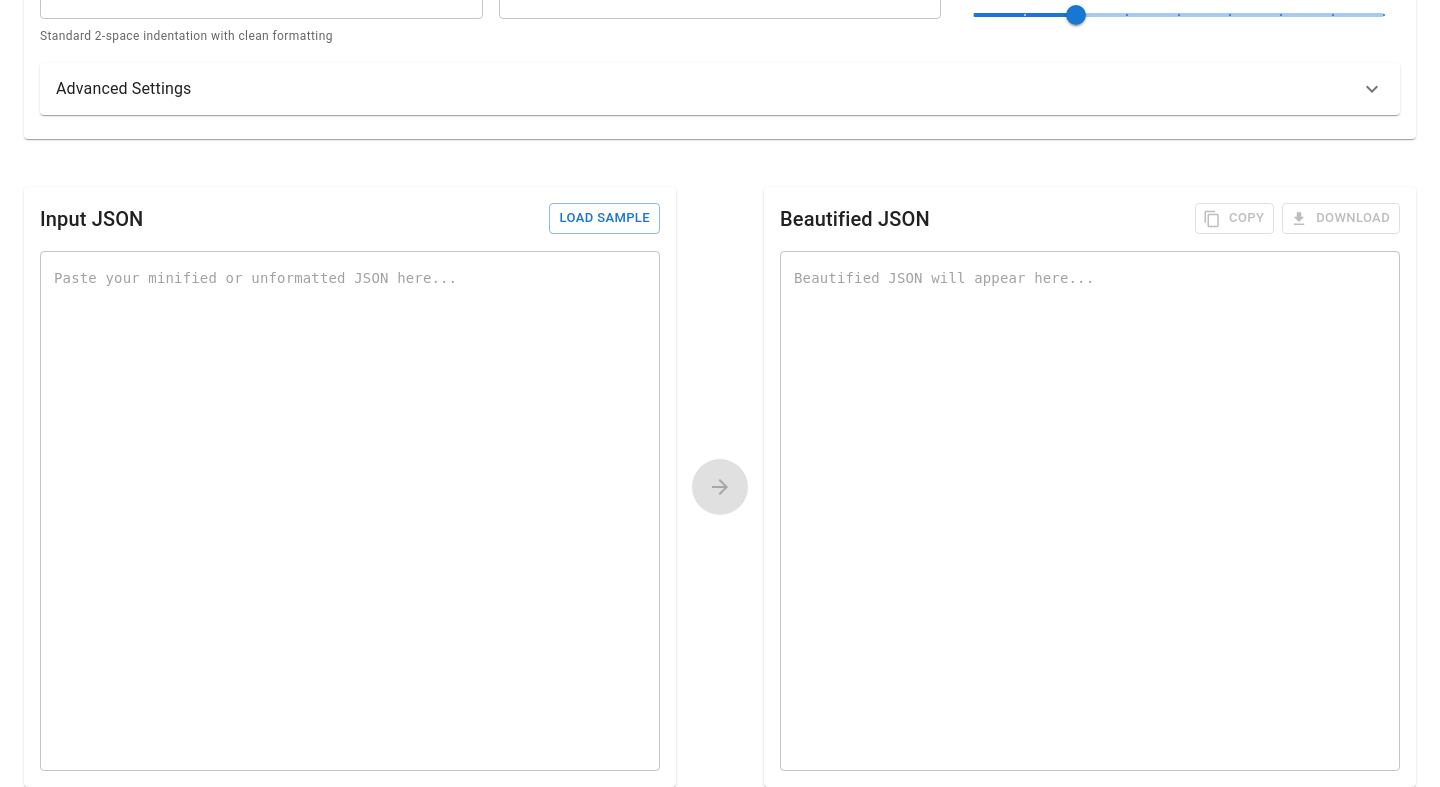
Test: JsonBeautifierTool › should beautify JSON when beautify button is clicked
(page scrolled)
Expected: the 5th button is shown, [692,459,748,515]
Note: Enter minified JSON
Clear the text box with placeholder "Paste your minified or unformatted JSON here...". click: (350, 511)
box: [54,267,646,754]
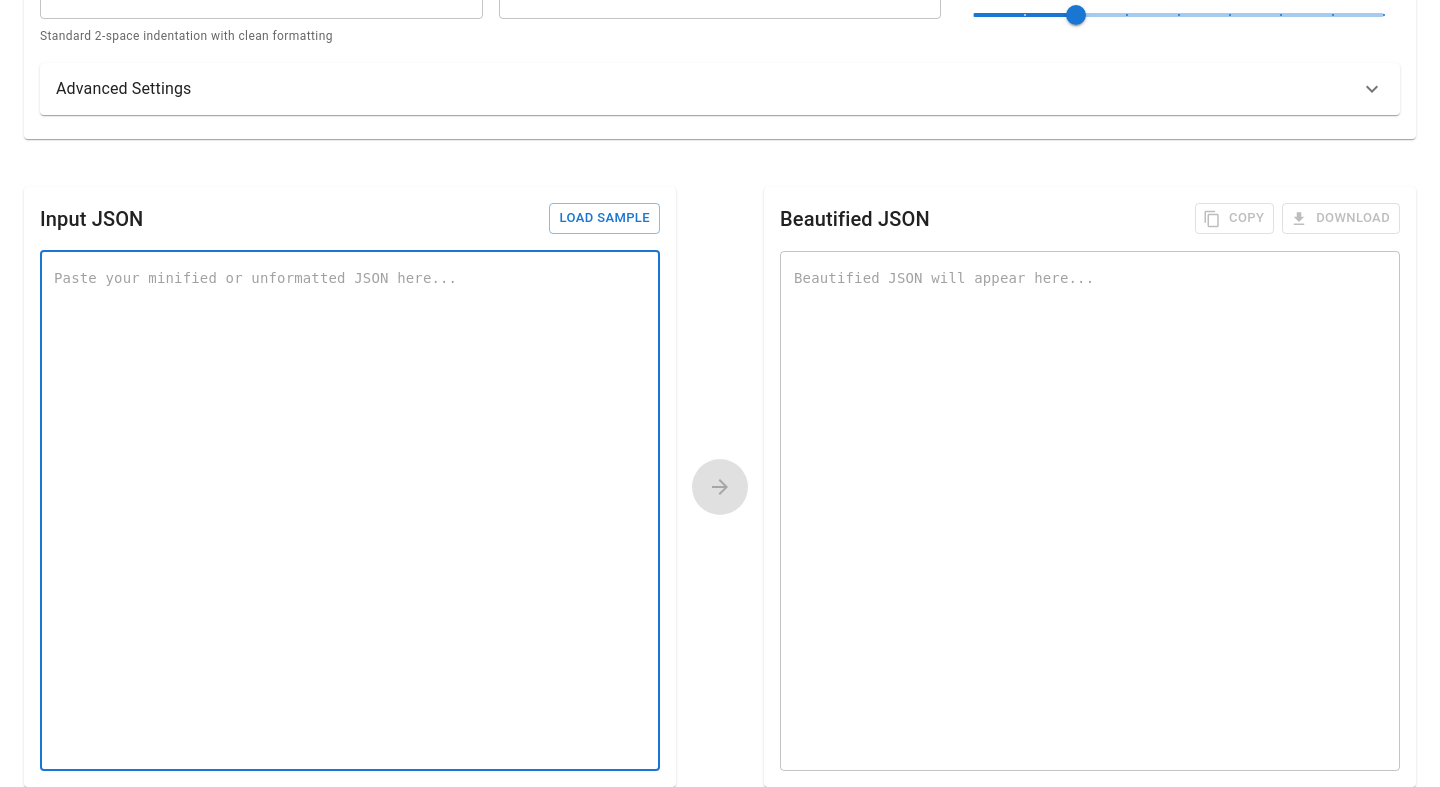
Type keys "{\"name\":\"test\",\"value\":123}"
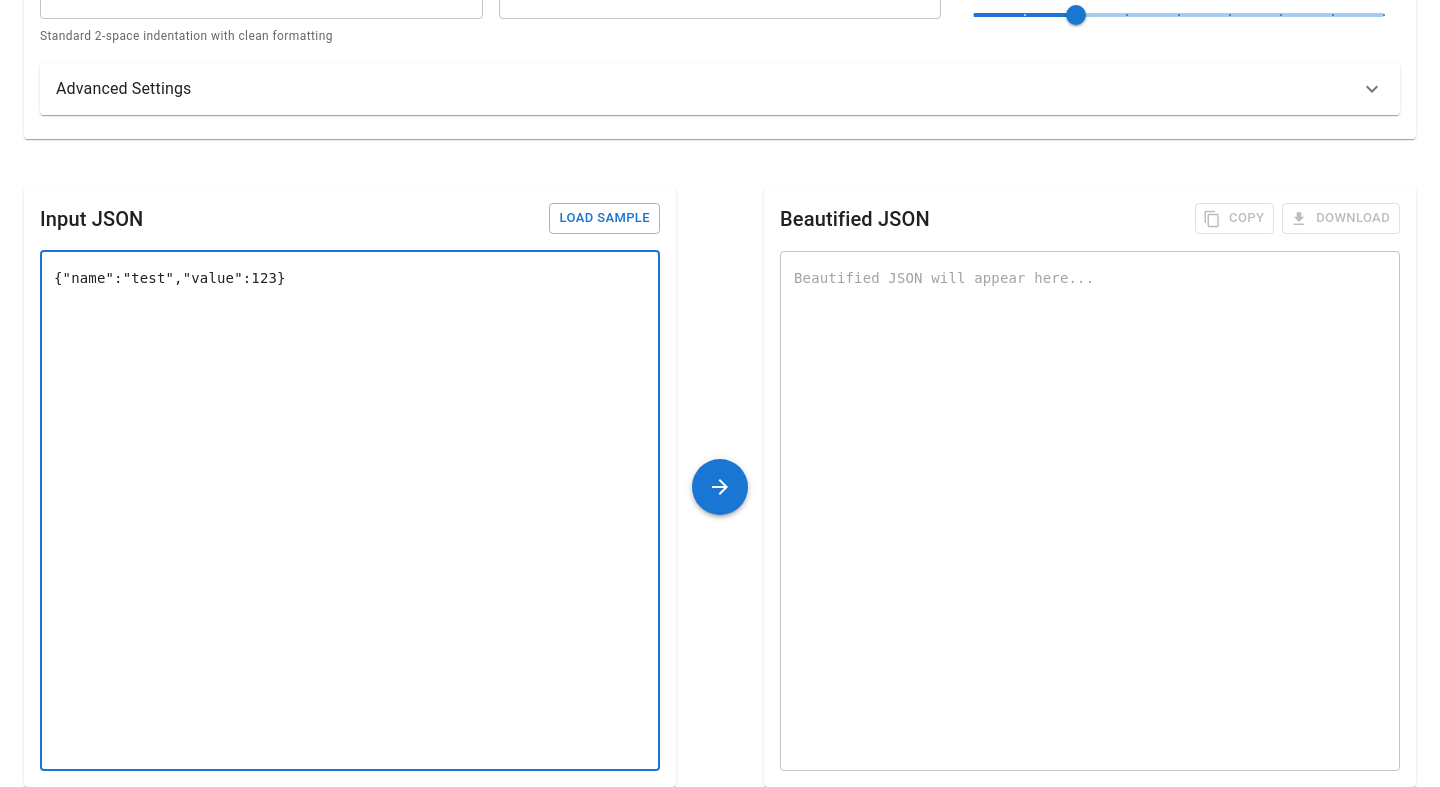
Click the 5th button. click: (720, 487)
box: [692,459,748,515]
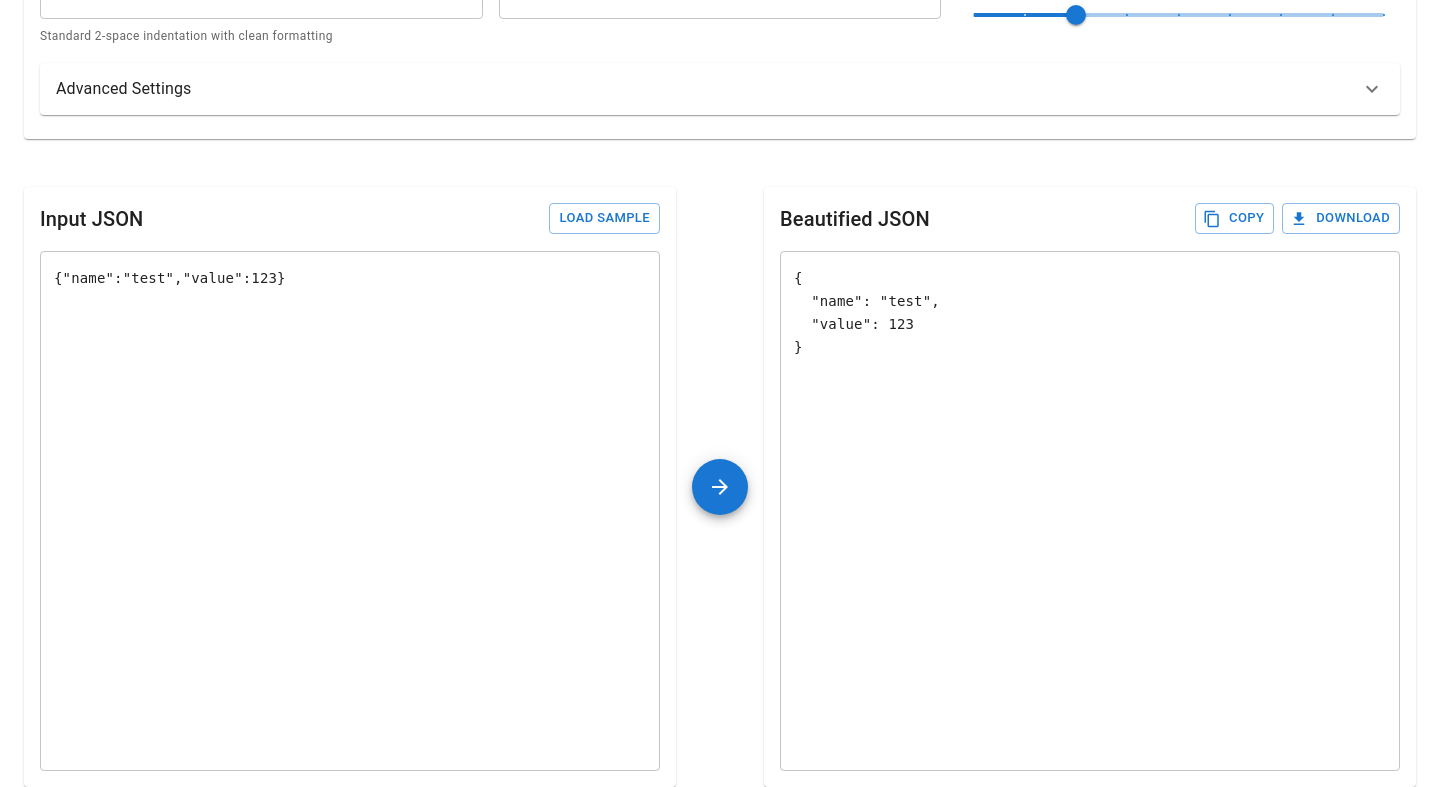
Now the text box with placeholder "Beautified JSON will appear here..." below "Beautified JSON" does not hold "{\"name\":\"test\",\"value\":123}", box [794,267,1386,754]
